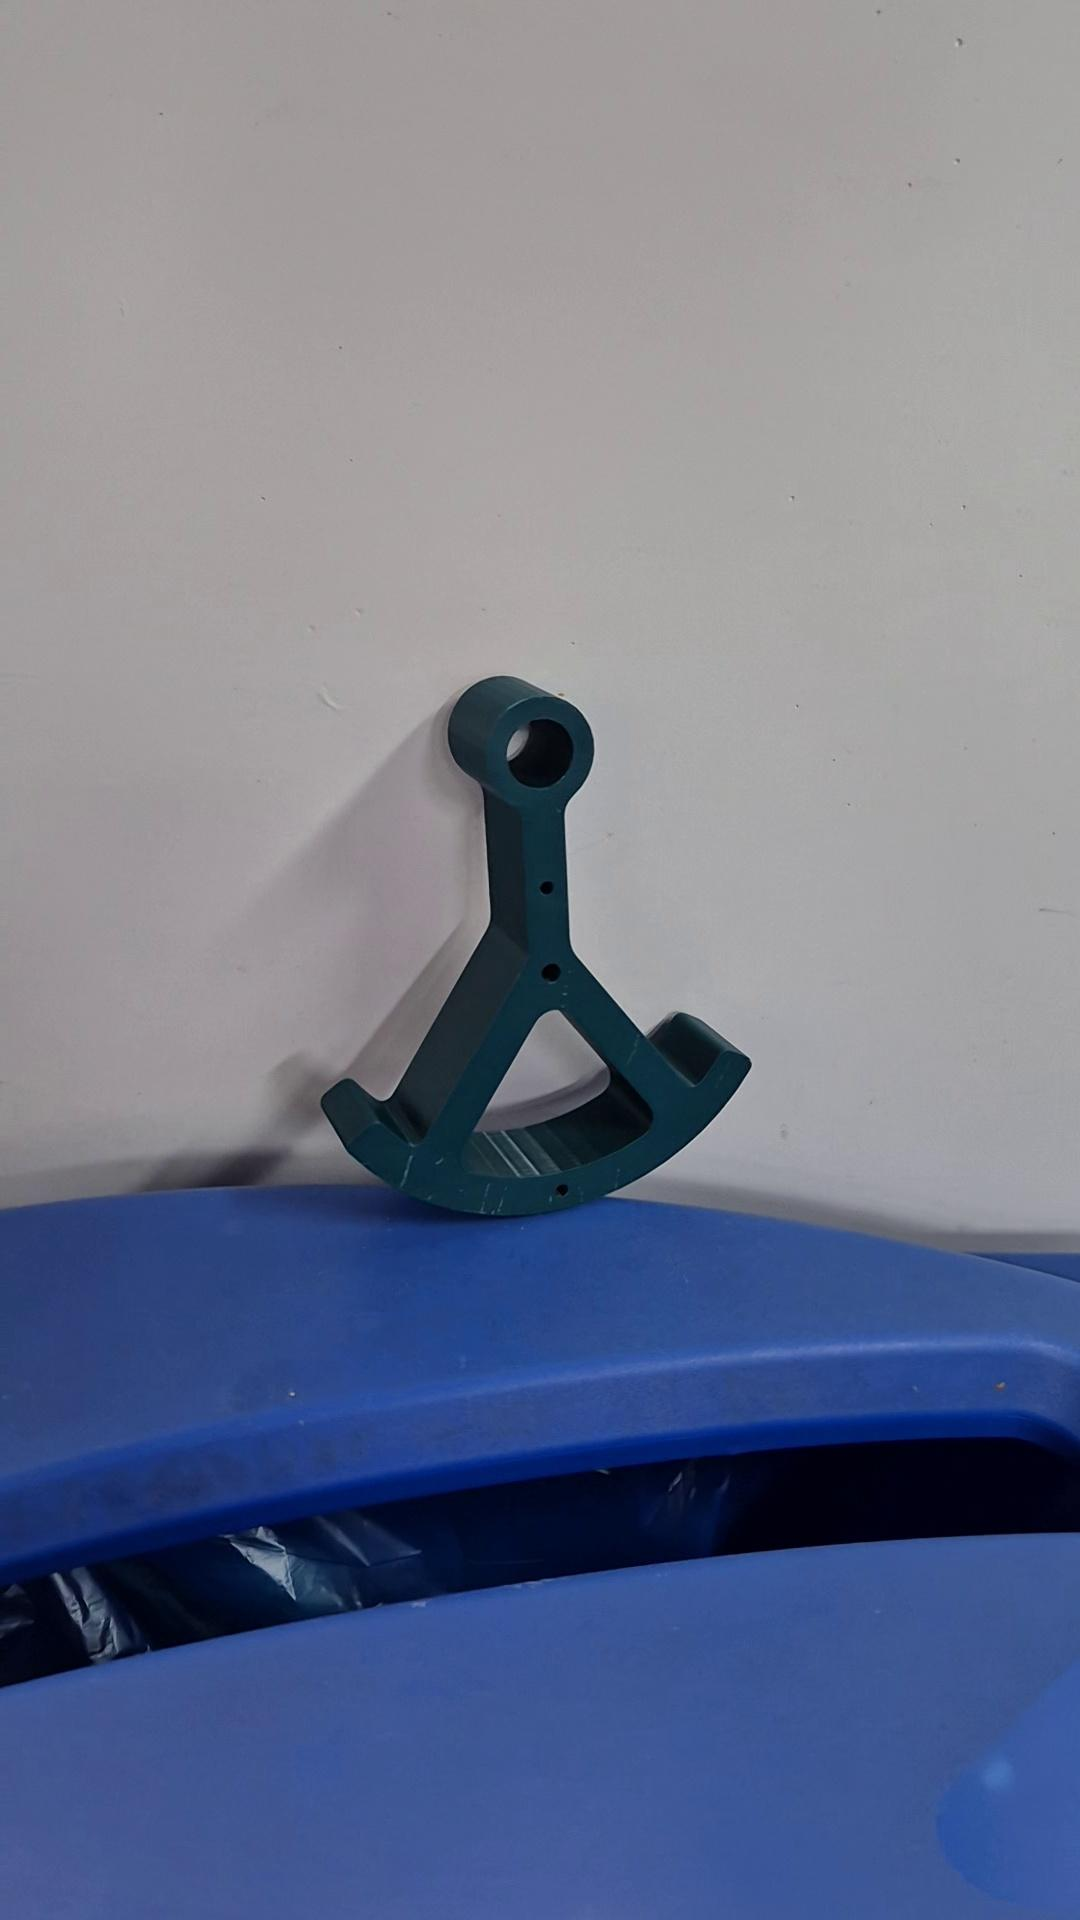Paddles: (318, 673, 754, 1221)
